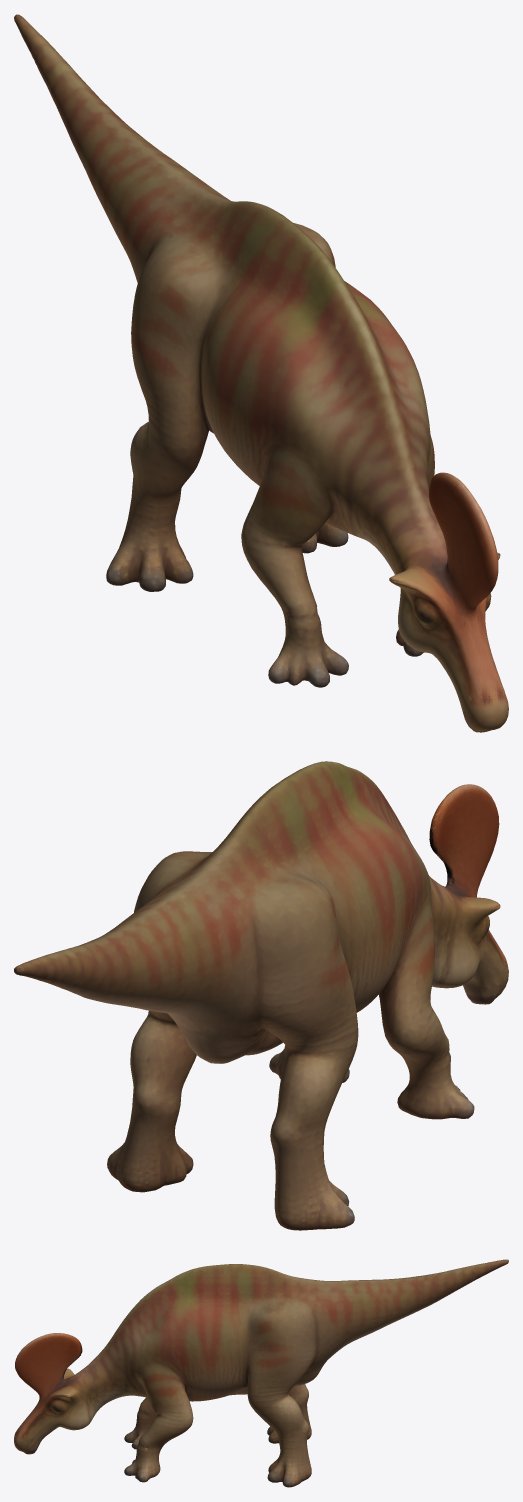
The picture shows the model from 3 angles, top to bottom: view 1: azimuth 30°, elevation 25°; view 2: azimuth 150°, elevation 25°; view 3: azimuth 270°, elevation 25°; orthographic projection. The views are drawn at different scales.
Parts seen in each view (by area): view 1: world; view 2: world; view 3: world.
Part boxes in pixels (x1,y1,x2,y2): world: (14,14,508,732); world: (14,761,508,1230); world: (14,1259,508,1487).
Bounding box in the file's own units: 2.93 × 4.44 × 10.
Materials: 1 (1 with a texture image).
